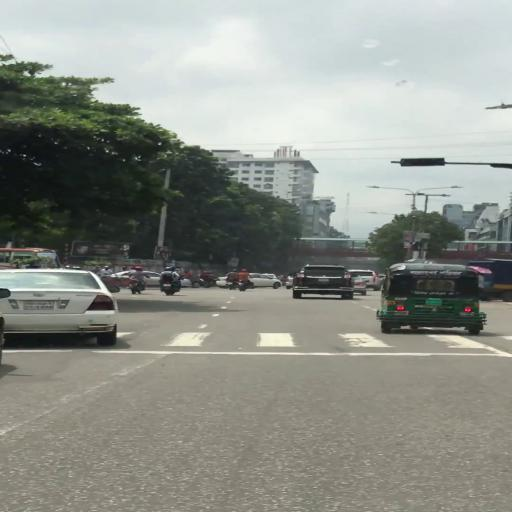car: (4, 269, 124, 349)
motorbike: (157, 267, 183, 298), (127, 267, 151, 296), (238, 269, 253, 292), (199, 272, 219, 289), (224, 269, 237, 292)
suv: (290, 264, 358, 300), (359, 270, 384, 292)
three wheelers (CNG): (376, 262, 490, 337)
